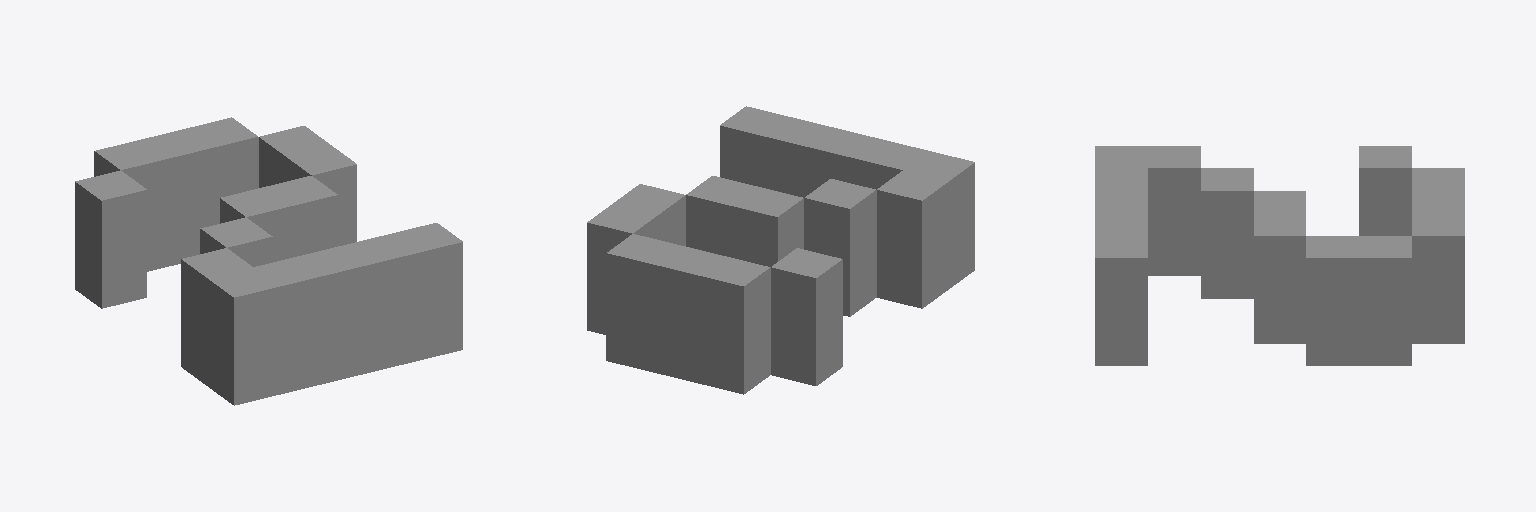
3 views of the same model, side by side, from view 1: azimuth 30°, elevation 25°; view 2: azimuth 150°, elevation 25°; view 3: azimuth 270°, elevation 25° (orthographic).
Parts seen in each view (by area): view 1: 2_CUABC.029; view 2: 2_CUABC.029; view 3: 2_CUABC.029.
Part boxes in pixels (x1,y1,x2,y2): 2_CUABC.029: (75,117,462,405); 2_CUABC.029: (587,106,974,394); 2_CUABC.029: (1095,146,1464,365).
Size of the model in its own units: 0.5556 by 0.25 by 0.7778.